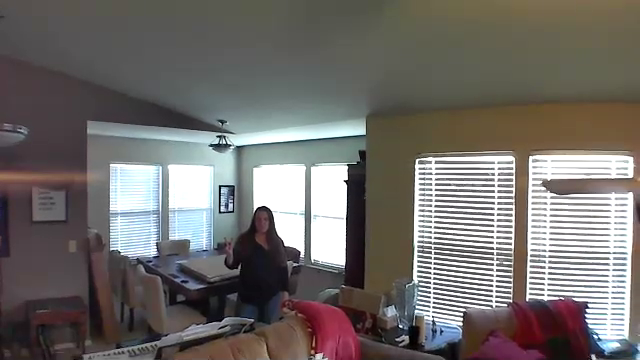peace: (217, 232, 242, 260)
